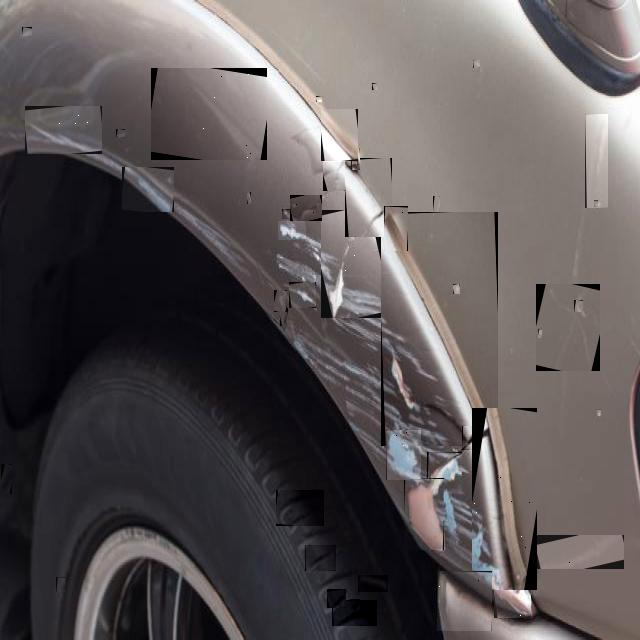Dent: (381, 212, 498, 446), (472, 408, 537, 590), (151, 68, 267, 160), (321, 210, 381, 318), (536, 284, 600, 371), (345, 158, 392, 237), (25, 106, 102, 154), (437, 571, 492, 631), (537, 535, 624, 569), (404, 478, 444, 550), (122, 167, 174, 212), (585, 114, 608, 208), (415, 394, 464, 436), (321, 110, 358, 164), (386, 430, 421, 480), (276, 490, 324, 526), (494, 572, 531, 618), (427, 452, 462, 494), (388, 350, 412, 406), (332, 600, 377, 626), (316, 563, 358, 589), (323, 156, 354, 191), (384, 206, 408, 251), (290, 195, 322, 221), (305, 545, 336, 571), (289, 282, 316, 308), (278, 220, 306, 240), (358, 576, 388, 594), (462, 426, 480, 451), (327, 589, 346, 608), (1, 464, 12, 494), (364, 206, 381, 225), (274, 290, 287, 312), (351, 148, 360, 170), (280, 308, 288, 326), (433, 196, 440, 216), (56, 577, 65, 592), (282, 209, 294, 219), (350, 600, 360, 612), (574, 300, 583, 312), (525, 566, 533, 578), (22, 27, 32, 36), (116, 129, 125, 137), (453, 284, 460, 294), (164, 173, 171, 182), (473, 60, 480, 68), (247, 192, 251, 205), (538, 329, 542, 338), (316, 96, 322, 102), (372, 83, 377, 90), (594, 200, 598, 207), (597, 409, 601, 416)
